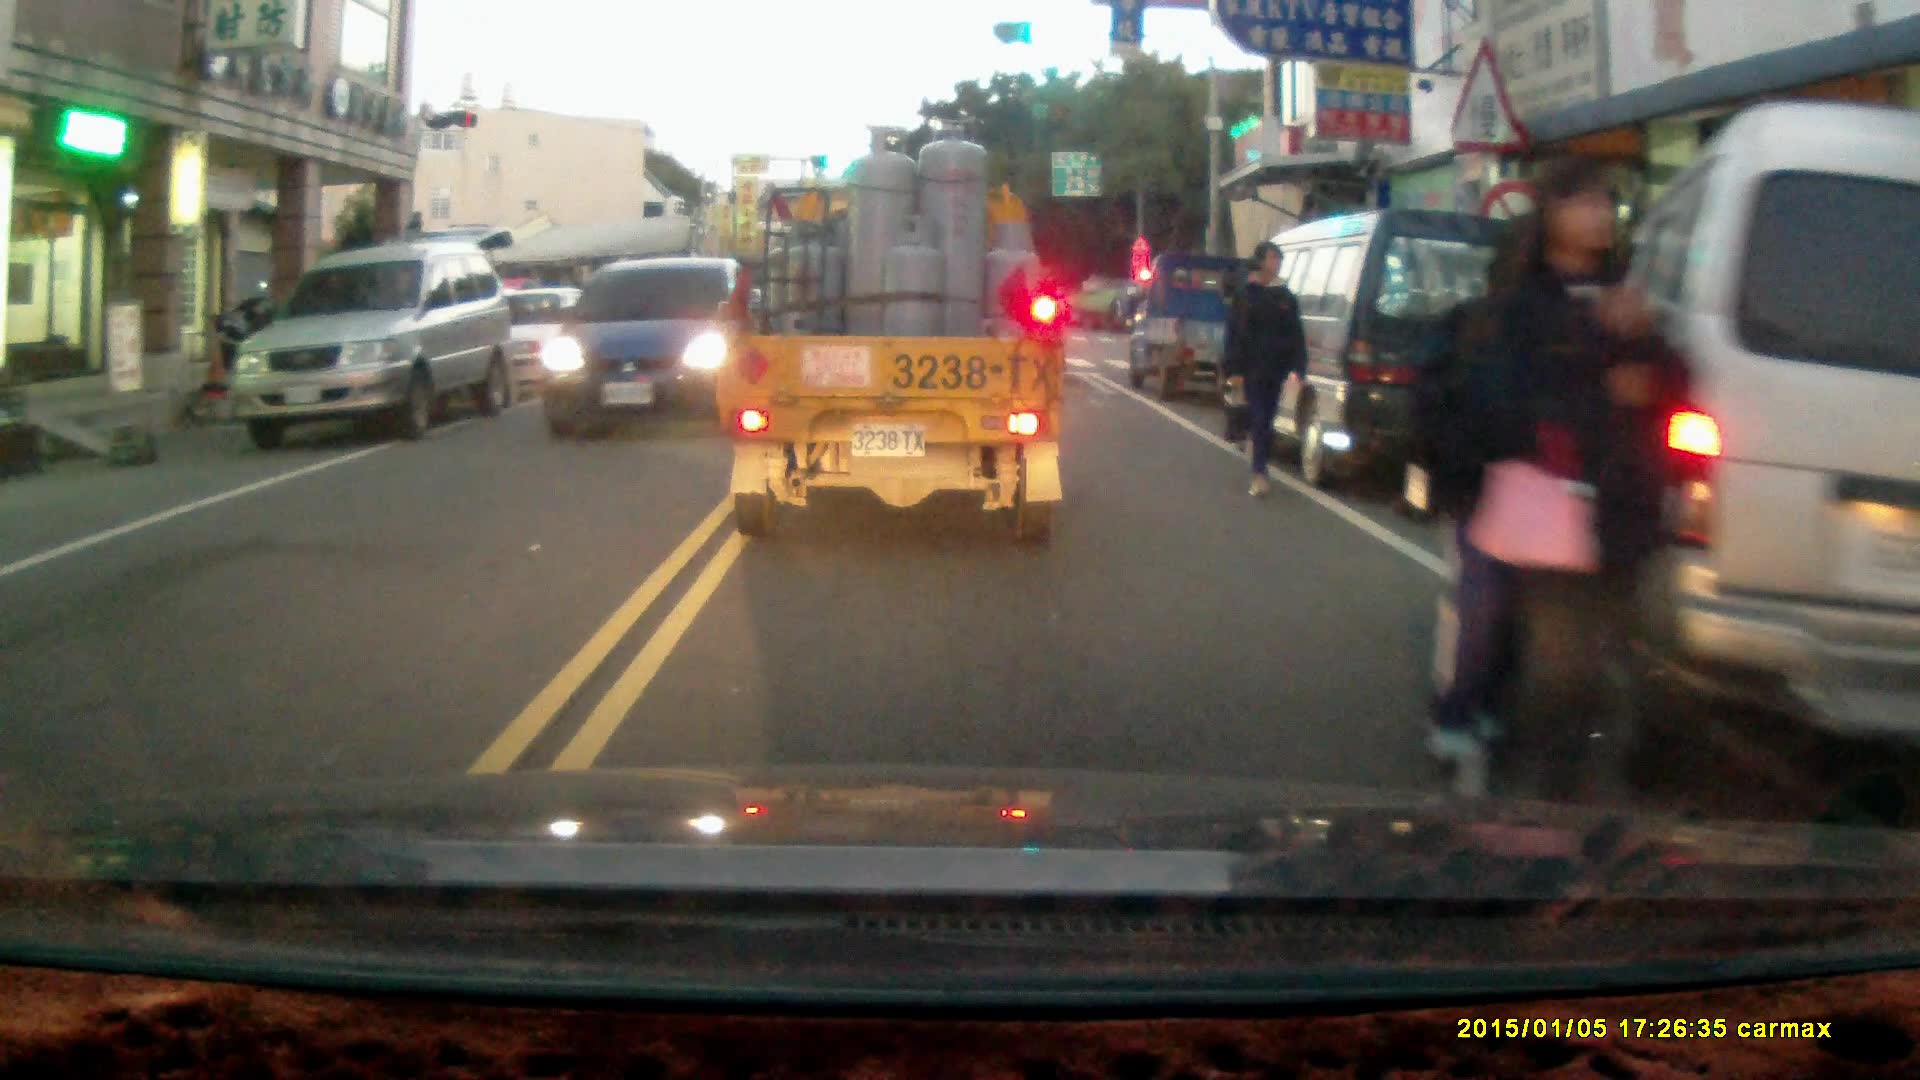pedestrian: (1496, 153, 1704, 822), (1398, 223, 1591, 824), (1221, 235, 1313, 499)
vehicle: (1584, 107, 1920, 777), (714, 123, 1068, 537), (1223, 206, 1576, 509), (236, 244, 517, 451), (535, 260, 778, 436), (445, 286, 610, 406), (1123, 250, 1245, 399)
